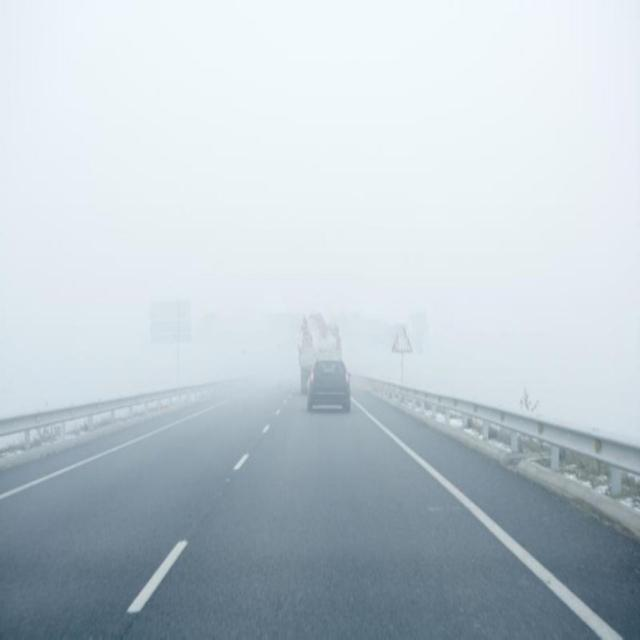bus: (296, 316, 342, 397)
car: (306, 360, 350, 414)
